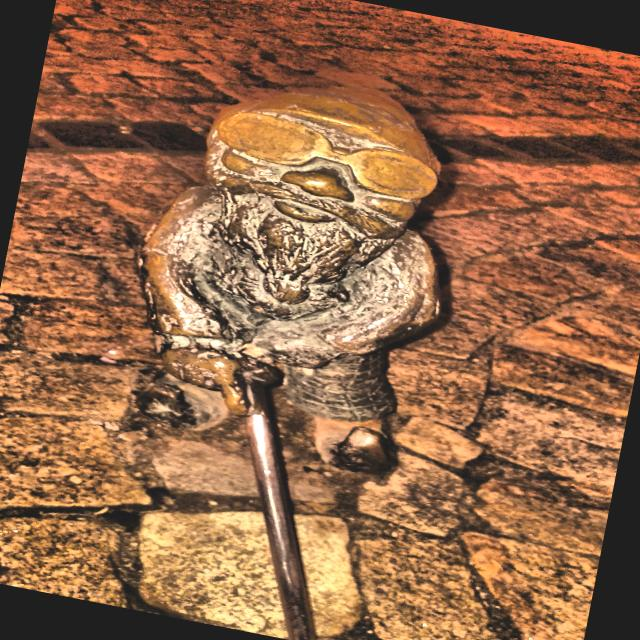Slepak: (140, 87, 440, 640)
